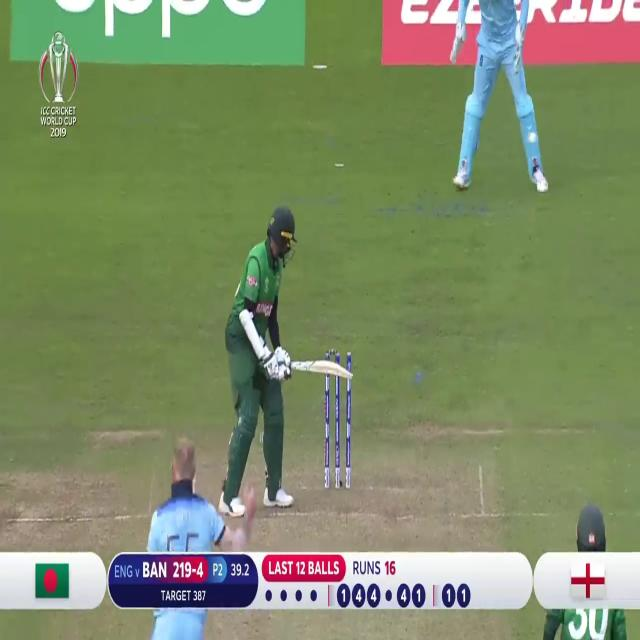ball: (527, 126, 539, 147)
